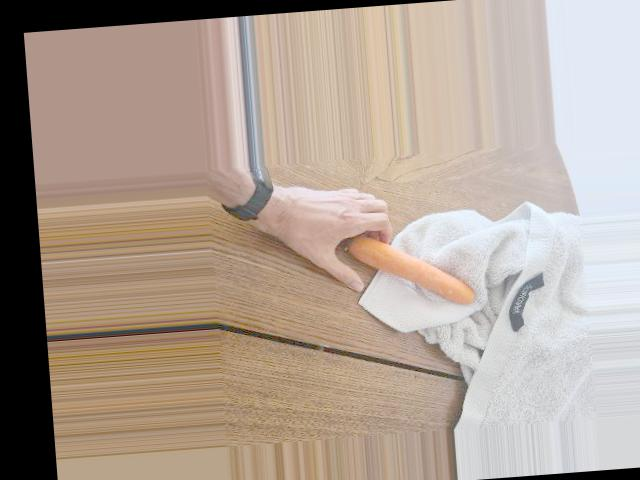carrot: (341, 225, 477, 314)
